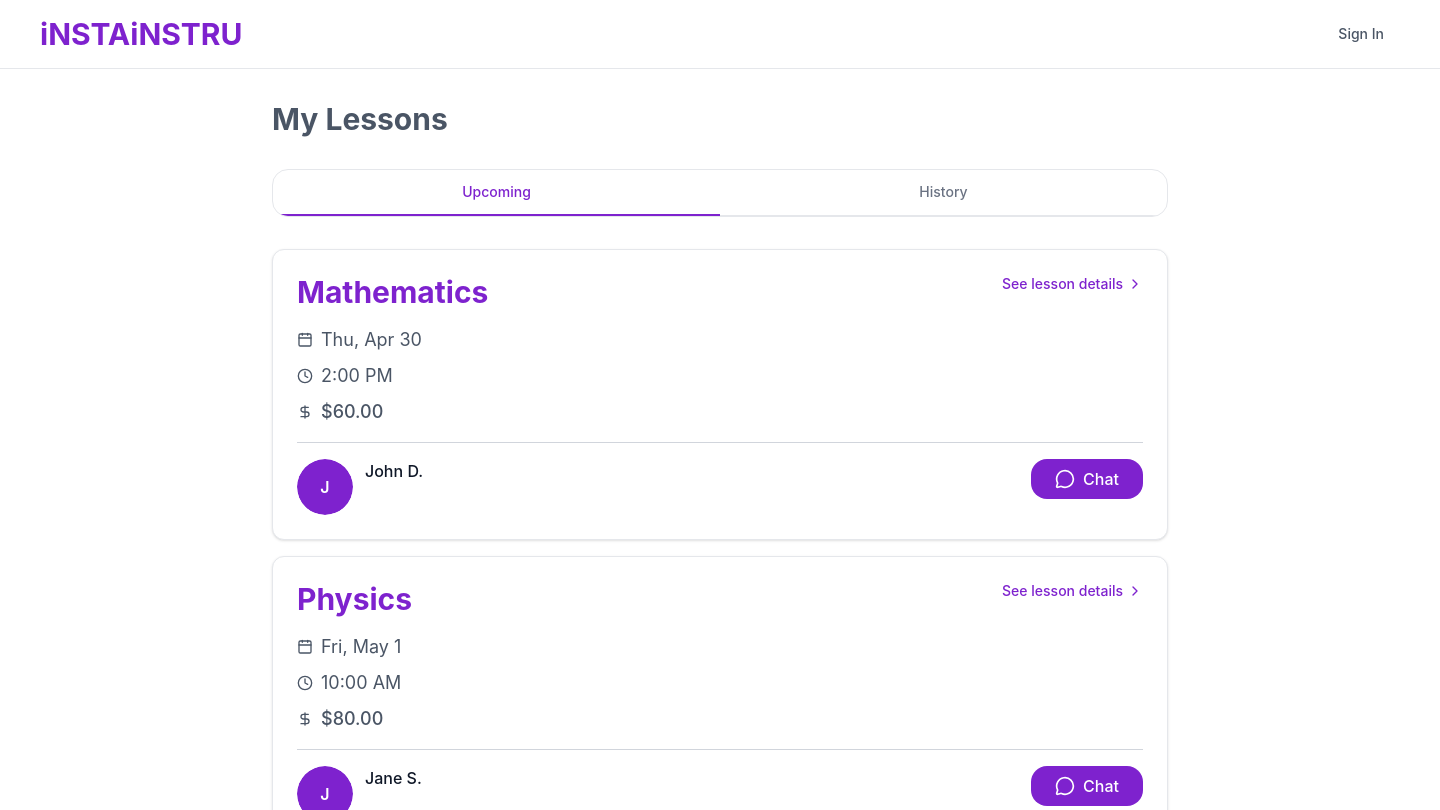
Scenario: MyLessonsPage › switches to history tab when clicked
The image size is (1440, 810).
Click the tab "History": (944,193) [720,170,1167,216]
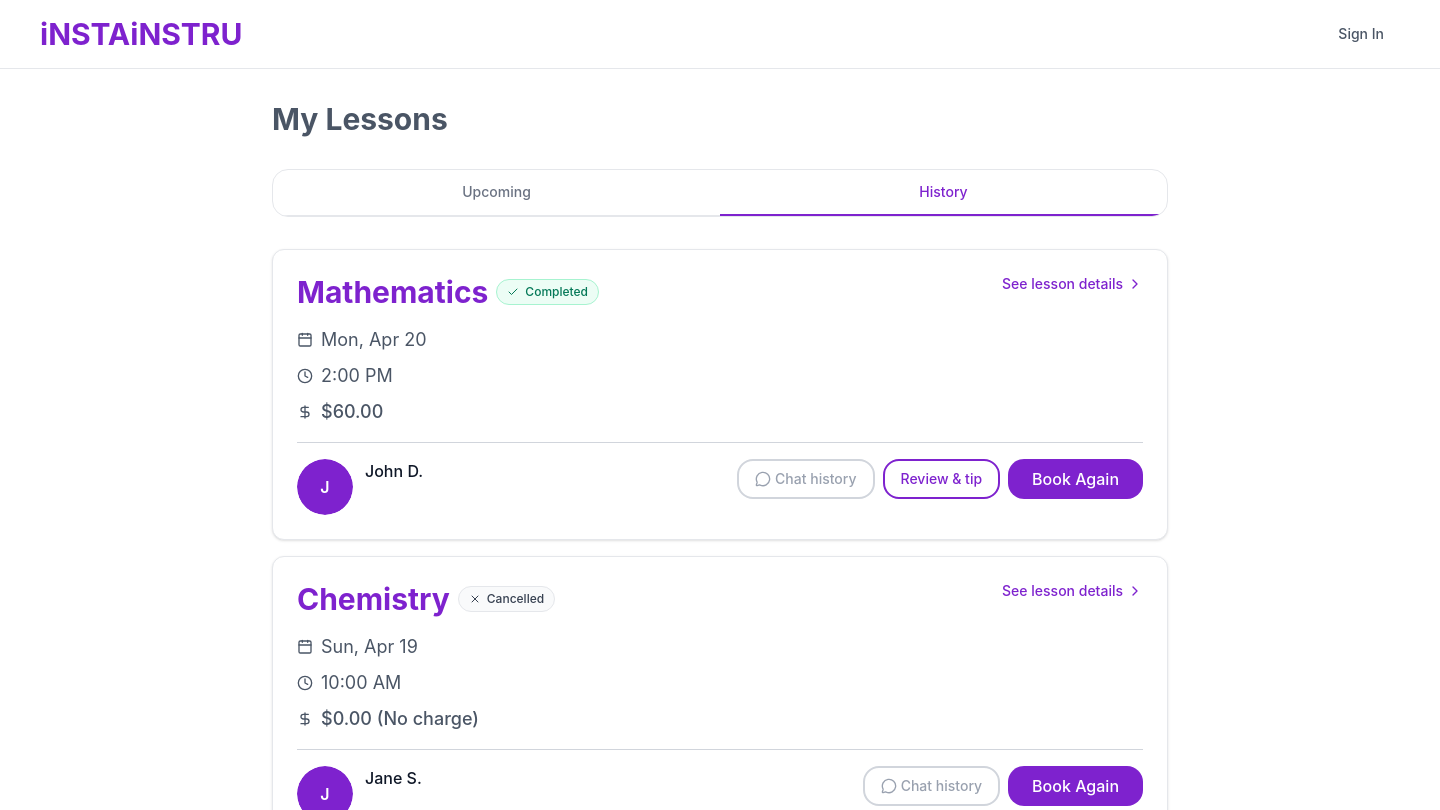
Check: the heading "Chemistry" is shown, box [297,581,450,617]
